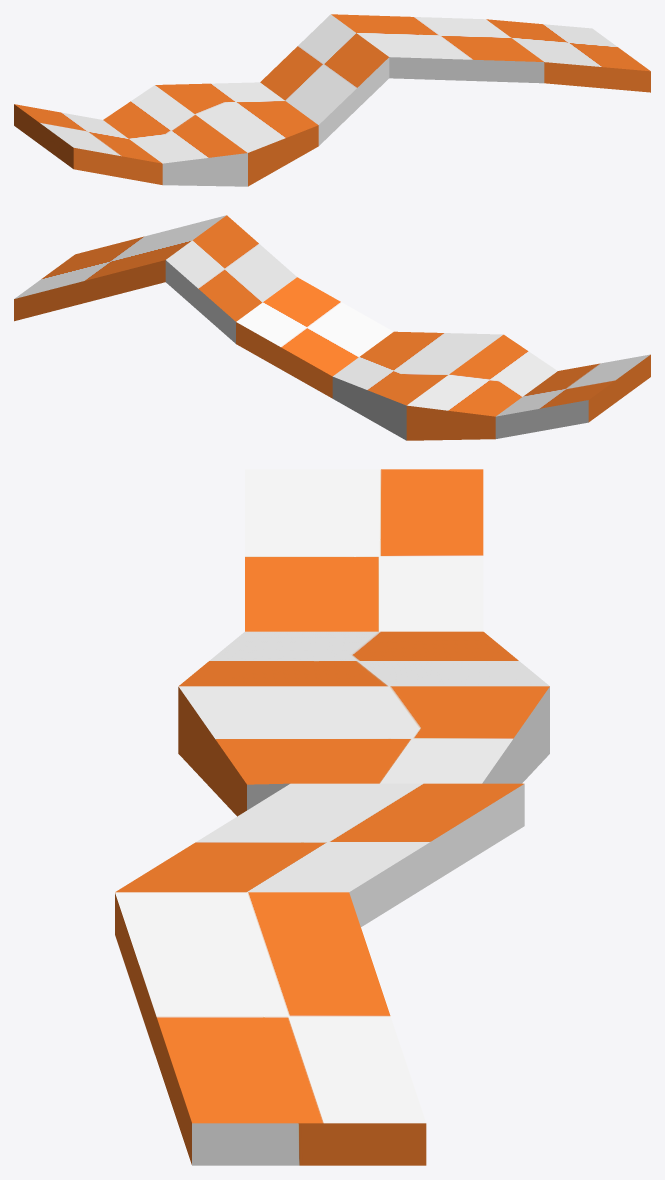
Rendered from floor_1.fbx.
3 renders of one model, top to bottom at view 1: azimuth 30°, elevation 25°; view 2: azimuth 150°, elevation 25°; view 3: azimuth 270°, elevation 25°, orthographic. The views are drawn at different scales.
Parts seen in each view (by area): view 1: Cube; view 2: Cube; view 3: Cube.
Boxes of the visible parts, x1,y1,x2,y2 form: Cube: [14, 14, 650, 186]; Cube: [14, 215, 650, 440]; Cube: [115, 469, 549, 1165].
Size of the model in its own units: 547 by 69.69 by 183.
